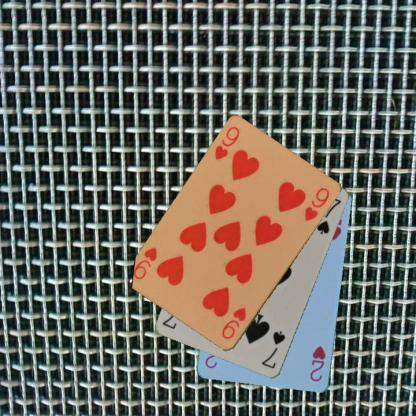2h: (307, 343, 327, 383)
7s: (258, 328, 288, 370)
9h: (212, 124, 241, 164), (219, 304, 248, 341)
